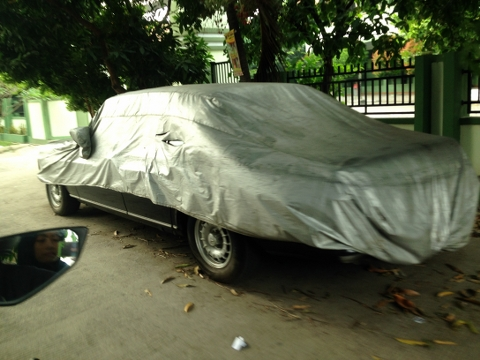mobil: (38, 83, 480, 287)
